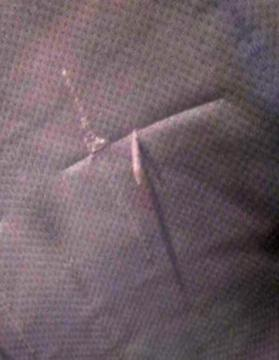snag: (120, 119, 155, 192)
